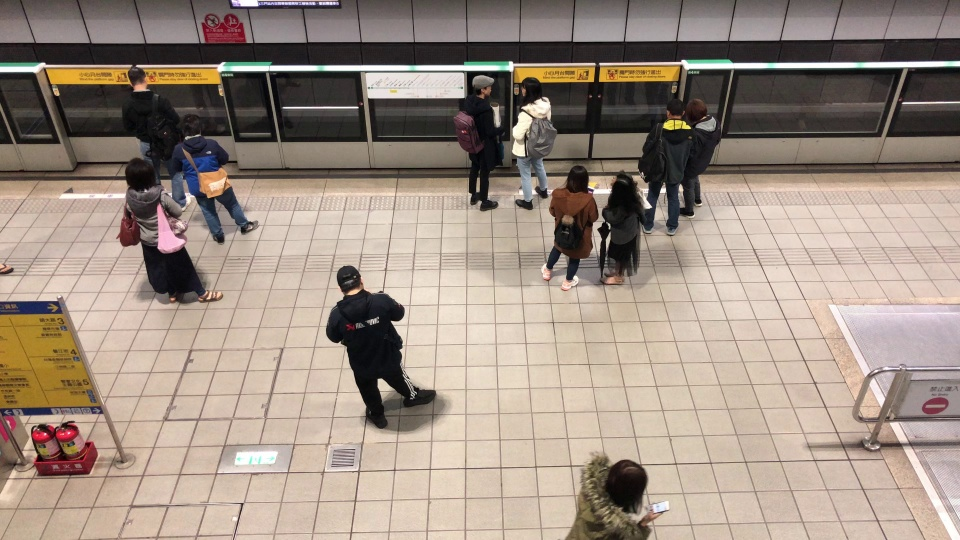person_head: (608, 458, 649, 506), (123, 154, 156, 191), (335, 263, 364, 296), (609, 170, 635, 204), (565, 163, 593, 193), (685, 96, 709, 125), (126, 65, 150, 92), (520, 74, 543, 100), (180, 112, 202, 139), (471, 75, 495, 98), (662, 98, 685, 121)
person_vbox: (324, 264, 436, 428), (114, 156, 224, 305), (168, 112, 261, 244), (120, 66, 192, 212), (563, 448, 671, 540), (636, 94, 698, 238), (451, 73, 505, 212), (539, 164, 597, 292), (596, 170, 652, 285), (512, 77, 557, 210), (677, 96, 721, 218)
